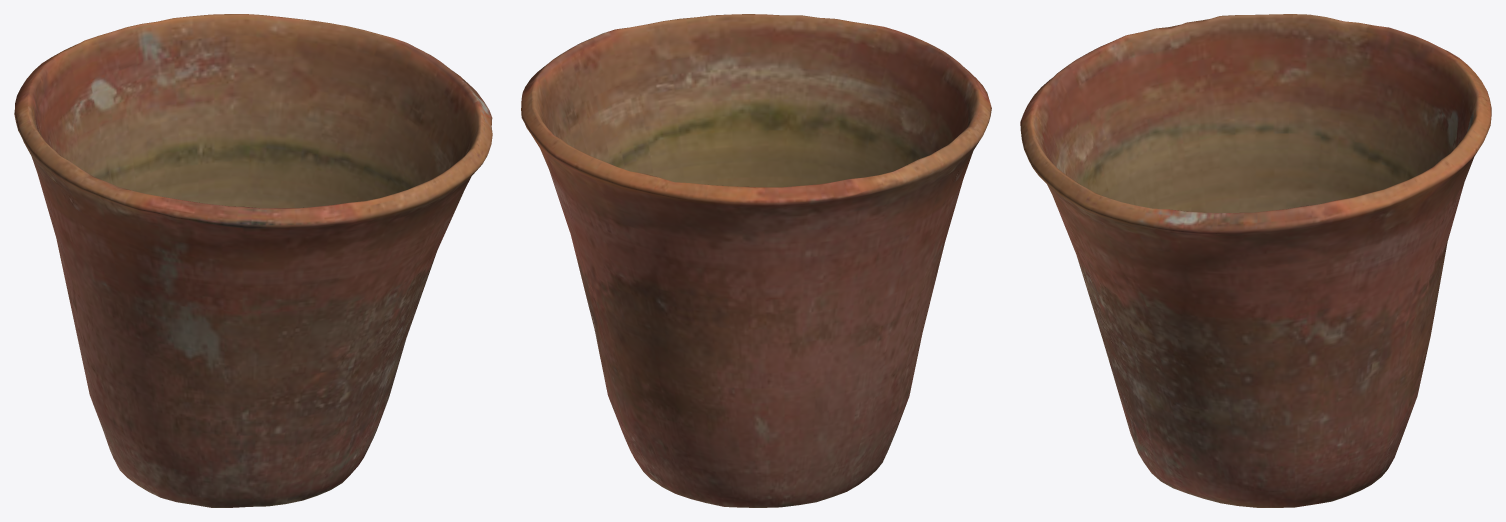
Rendered from planter_pot_clay.glb.
The picture shows the model from 3 angles, left to right: view 1: azimuth 30°, elevation 25°; view 2: azimuth 150°, elevation 25°; view 3: azimuth 270°, elevation 25°; orthographic projection.
Visible parts, largest first — view 1: planter_pot_clay; view 2: planter_pot_clay; view 3: planter_pot_clay.
Boxes of the visible parts, x1,y1,x2,y2 form: planter_pot_clay: [14, 14, 492, 507]; planter_pot_clay: [521, 14, 991, 507]; planter_pot_clay: [1020, 14, 1491, 507].
Size of the model in its own units: 0.266 by 0.2219 by 0.2635.
Materials: 1 (1 with a texture image).
